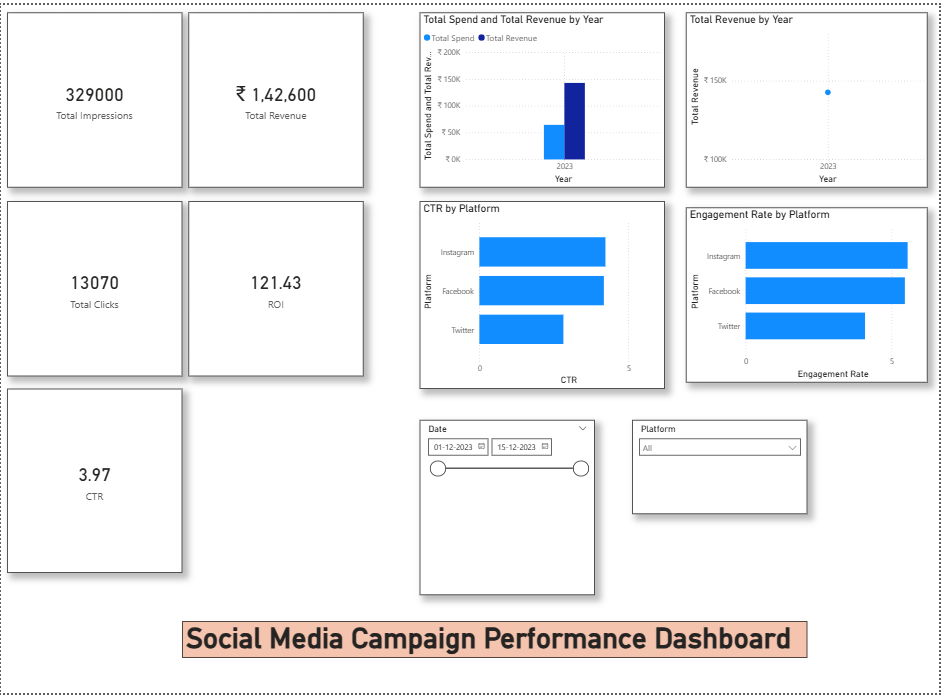

What the dashboard file says about the page in this screenshot:
{"tool":"powerbi","page":{"name":"Page 1","canvas":[1500,1100],"ordinal":0},"visuals":[{"type":"card","fields":{"Values":["social_media_campaign_data.Total Impressions"]},"box":[10,12,280,280],"z":0},{"type":"card","fields":{"Values":["social_media_campaign_data.Total Clicks"]},"box":[10,314,280,280],"z":1000},{"type":"card","fields":{"Values":["social_media_campaign_data.CTR"]},"box":[10,614,280,294],"z":2000},{"type":"card","fields":{"Values":["social_media_campaign_data.Total Revenue"]},"box":[300,12,280,280],"z":3000},{"type":"card","fields":{"Values":["social_media_campaign_data.ROI"]},"box":[300,314,280,280],"z":4000},{"type":"lineChart","fields":{"Category":["social_media_campaign_data.Date.Variation.Date Hierarchy.Year","social_media_campaign_data.Date.Variation.Date Hierarchy.Quarter","social_media_campaign_data.Date.Variation.Date Hierarchy.Month","social_media_campaign_data.Date.Variation.Date Hierarchy.Day"],"Y":["social_media_campaign_data.Total Revenue"]},"box":[1096,12,386,280],"z":5000},{"type":"barChart","fields":{"Category":["social_media_campaign_data.Platform"],"Y":["social_media_campaign_data.CTR"]},"box":[670,314,392,300],"z":6000},{"type":"clusteredColumnChart","fields":{"Category":["social_media_campaign_data.Date.Variation.Date Hierarchy.Year","social_media_campaign_data.Date.Variation.Date Hierarchy.Quarter","social_media_campaign_data.Date.Variation.Date Hierarchy.Month","social_media_campaign_data.Date.Variation.Date Hierarchy.Day"],"Y":["social_media_campaign_data.Total Spend","social_media_campaign_data.Total Revenue"]},"box":[670,12,392,280],"z":7000},{"type":"barChart","fields":{"Category":["social_media_campaign_data.Platform"],"Y":["social_media_campaign_data.Engagement Rate"]},"box":[1096,324,386,280],"z":8000},{"type":"slicer","fields":{"Values":["social_media_campaign_data.Platform"]},"box":[1010,664,280,150],"z":9000},{"type":"slicer","fields":{"Values":["social_media_campaign_data.Date"]},"box":[670,664,280,280],"z":10000},{"type":"textbox","title":"Social Media Campaign Performance Dashboard","box":[290,986,1000,58],"z":11000}]}

Visuals, with their boxes in screenshot pixels (x1, y1, x2, y2), scaled from the page's 1500x1100 canvas onto the 946x699 screenshot:
card - social_media_campaign_data.Total Impressions: (x1=6, y1=8, x2=183, y2=186)
card - social_media_campaign_data.Total Clicks: (x1=6, y1=200, x2=183, y2=377)
card - social_media_campaign_data.CTR: (x1=6, y1=390, x2=183, y2=577)
card - social_media_campaign_data.Total Revenue: (x1=189, y1=8, x2=366, y2=186)
card - social_media_campaign_data.ROI: (x1=189, y1=200, x2=366, y2=377)
lineChart - social_media_campaign_data.Date.Variation.Date Hierarchy.Year x social_media_campaign_data.Date.Variation.Date Hierarchy.Quarter: (x1=691, y1=8, x2=935, y2=186)
barChart - social_media_campaign_data.Platform x social_media_campaign_data.CTR: (x1=423, y1=200, x2=670, y2=390)
clusteredColumnChart - social_media_campaign_data.Date.Variation.Date Hierarchy.Year x social_media_campaign_data.Date.Variation.Date Hierarchy.Quarter: (x1=423, y1=8, x2=670, y2=186)
barChart - social_media_campaign_data.Platform x social_media_campaign_data.Engagement Rate: (x1=691, y1=206, x2=935, y2=384)
slicer - social_media_campaign_data.Platform: (x1=637, y1=422, x2=814, y2=517)
slicer - social_media_campaign_data.Date: (x1=423, y1=422, x2=599, y2=600)
"Social Media Campaign Performance Dashboard" textbox: (x1=183, y1=627, x2=814, y2=663)
